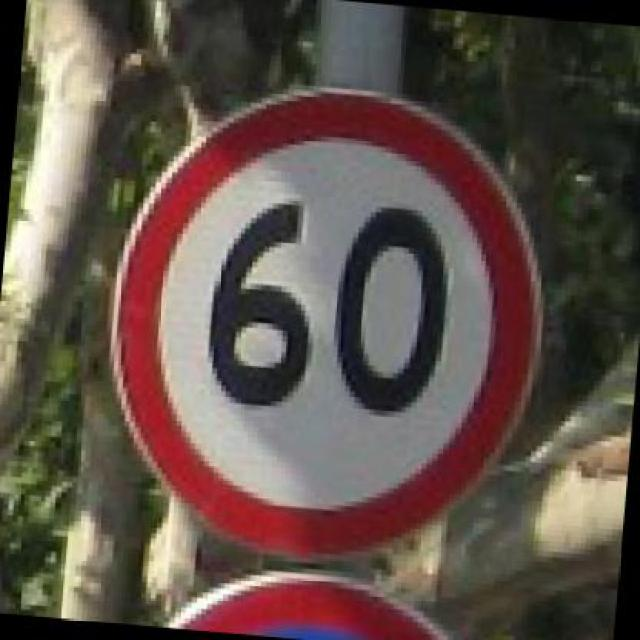Limite-60: (107, 83, 545, 562)
